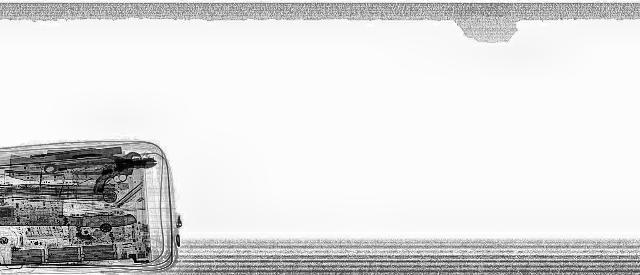Gun: (85, 162, 163, 192)
Knife: (0, 198, 138, 228)
Pliers: (71, 153, 157, 174)
Wrench: (38, 152, 144, 175)
